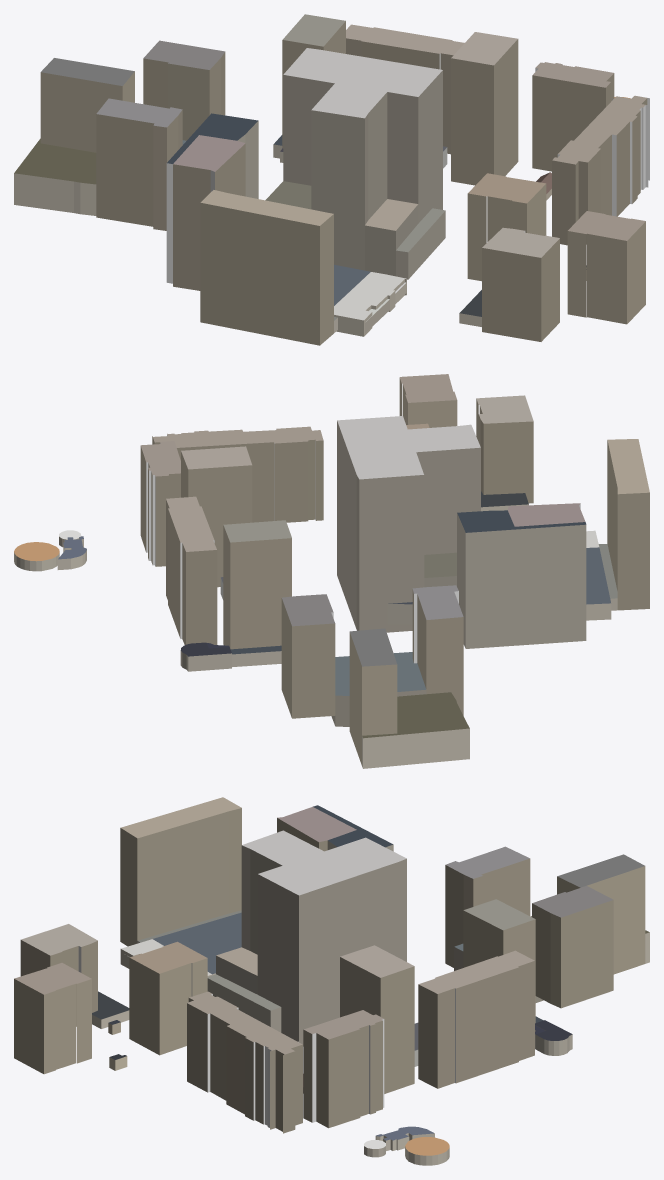
The picture shows the model from 3 angles, top to bottom: view 1: azimuth 30°, elevation 25°; view 2: azimuth 150°, elevation 25°; view 3: azimuth 270°, elevation 25°; orthographic projection. The views are drawn at different scales.
Parts seen in each view (by area): view 1: tuile; view 2: tuile; view 3: tuile.
Part boxes in pixels (box(x1,y1,x2,y2)): tuile: box(14, 14, 649, 345); tuile: box(14, 374, 649, 768); tuile: box(14, 797, 649, 1165).
Bounding box in the file's own units: 261 × 78.95 × 276.
